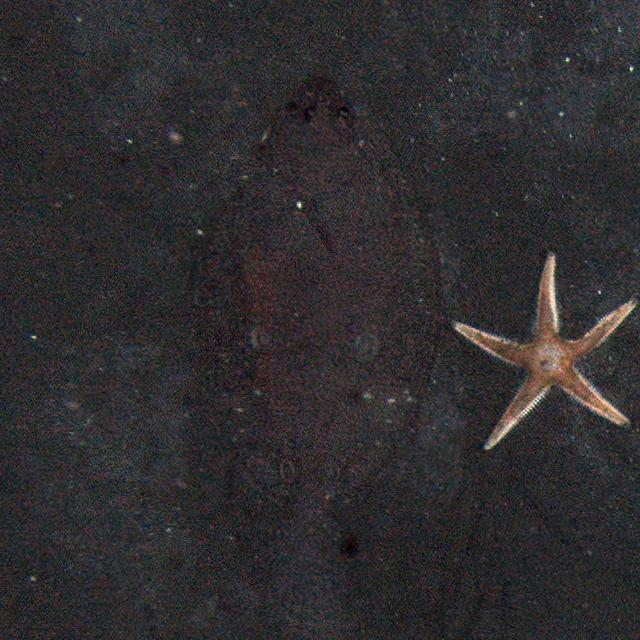flatfish: (204, 68, 445, 600)
